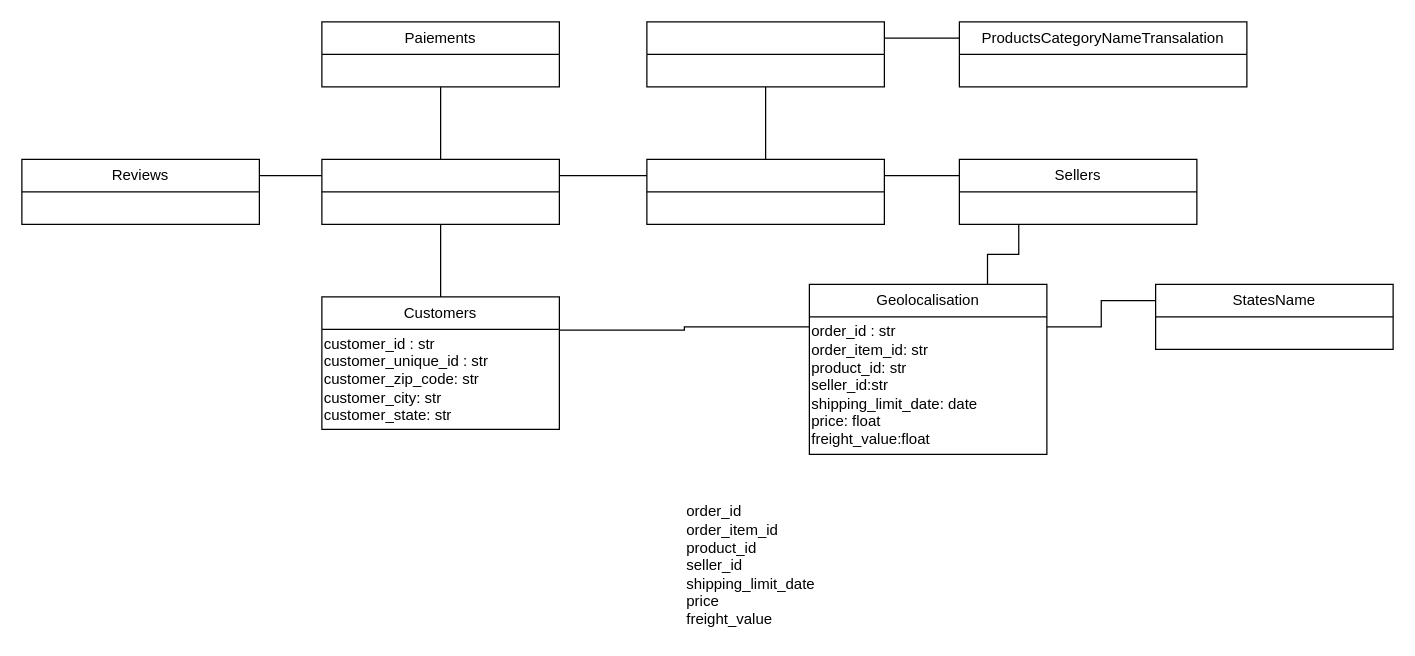
Some shapes in this 1415 by 656 pixel diagram are drawn without their labels. The centre of each missing label's shape, as x and y in pixels:
"Orders" goes at point (440, 191).
"OrdersItems" goes at point (765, 191).
"Products" goes at point (765, 54).
